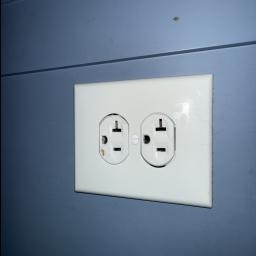outlet: (70, 72, 214, 202)
